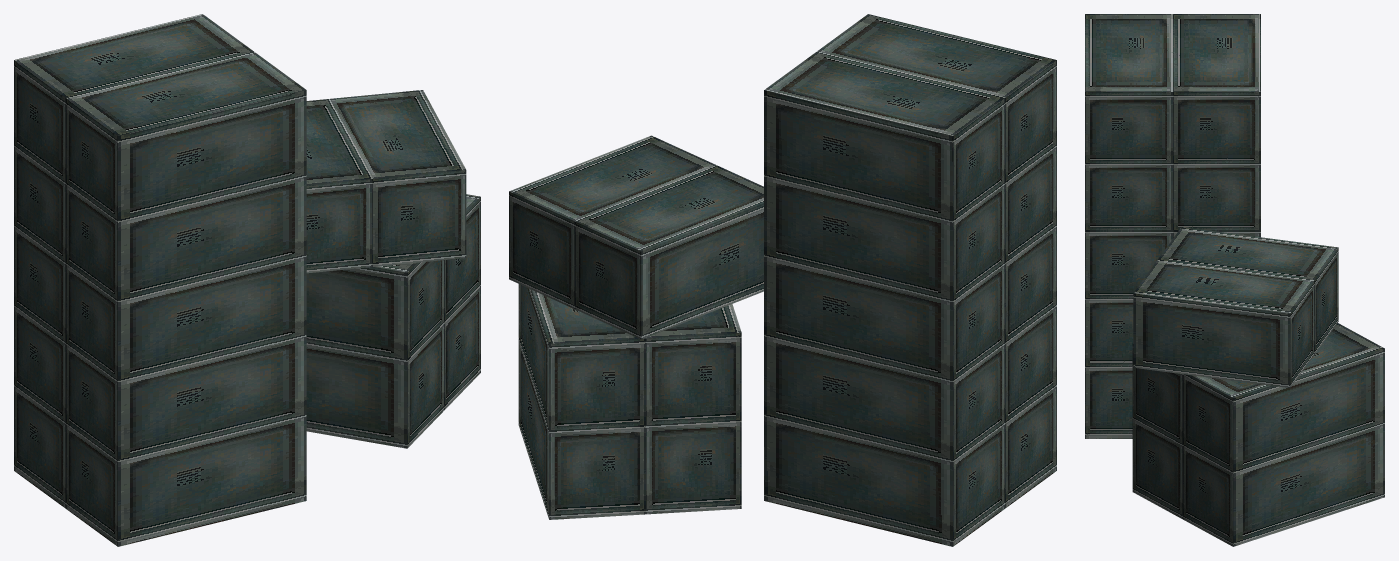
Rendered from Environment - Prop - Ammo Cache - PMCrates04.glb.
3 views of the same model, side by side, from view 1: azimuth 30°, elevation 25°; view 2: azimuth 150°, elevation 25°; view 3: azimuth 270°, elevation 25° (orthographic). The views are drawn at different scales.
Parts seen in each view (by area): view 1: PMCRATES04; view 2: PMCRATES04; view 3: PMCRATES04.
Boxes of the visible parts, <box> form: PMCRATES04: <box>14,14,480,546</box>; PMCRATES04: <box>509,14,1056,546</box>; PMCRATES04: <box>1085,14,1384,546</box>.
Size of the model in its own units: 13.52 by 11.78 by 9.22.
1 material, 1 textured.
